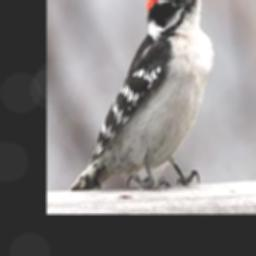Woodpecker: (71, 0, 216, 193)
